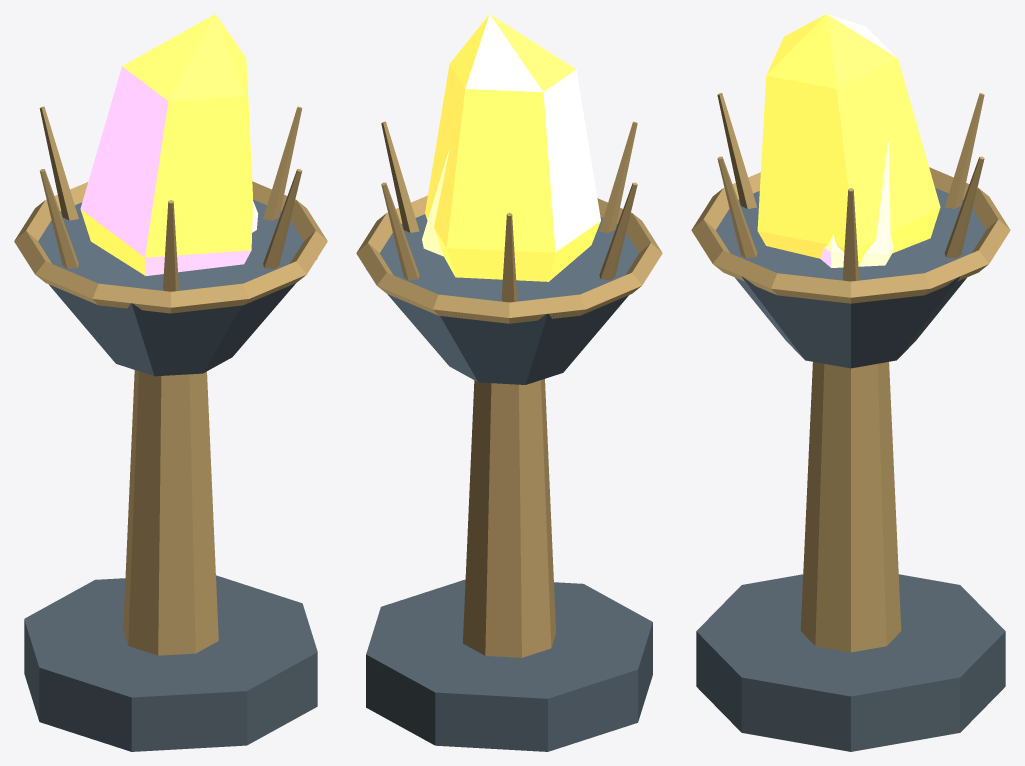
File: crypt_brazier.glb
3 renders of one model, left to right at view 1: azimuth 30°, elevation 25°; view 2: azimuth 150°, elevation 25°; view 3: azimuth 270°, elevation 25°, orthographic. The views are drawn at different scales.
Parts seen in each view (by area): view 1: crypt_brazier_Geometry; view 2: crypt_brazier_Geometry; view 3: crypt_brazier_Geometry.
Part boxes in pixels (box(x1,y1,x2,y2)): crypt_brazier_Geometry: box(14, 14, 327, 751); crypt_brazier_Geometry: box(356, 14, 662, 751); crypt_brazier_Geometry: box(691, 14, 1010, 751).
Size of the model in its own units: 0.888 by 2.11 by 0.888.
